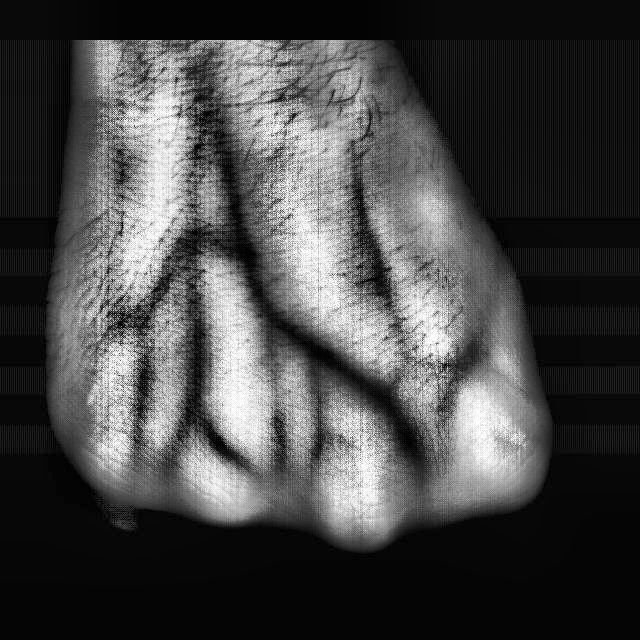Vein: (202, 122, 280, 311)
